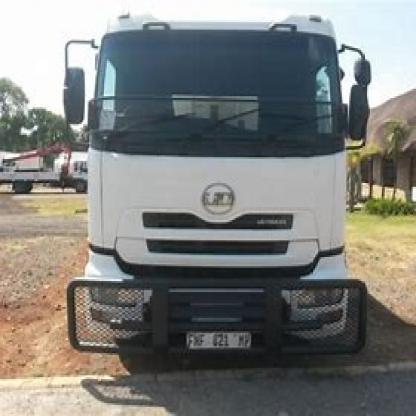dump_truck: (46, 2, 383, 377)
